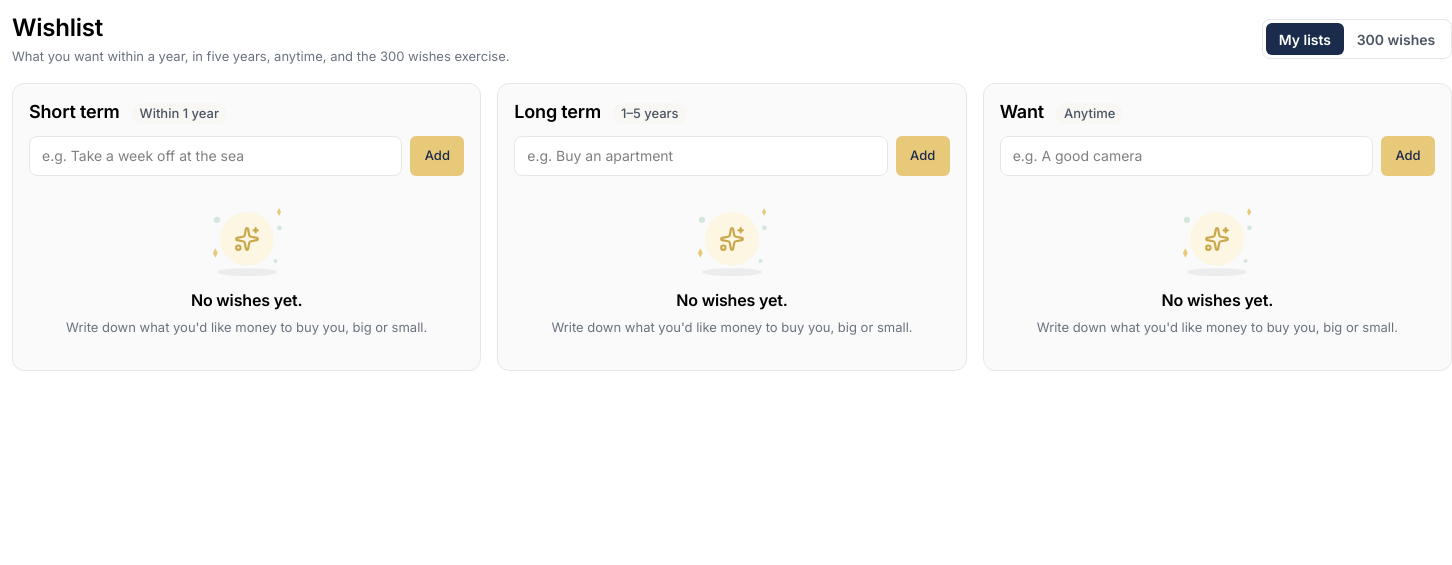
Test: WishlistPage › checks each exercise wish for repeats and lets the user decide
Expected: the element "Short term" is shown, [12,83,481,371]
Click the button "300 wishes" at {"x": 1396, "y": 39}, box [1344,23,1448,56]
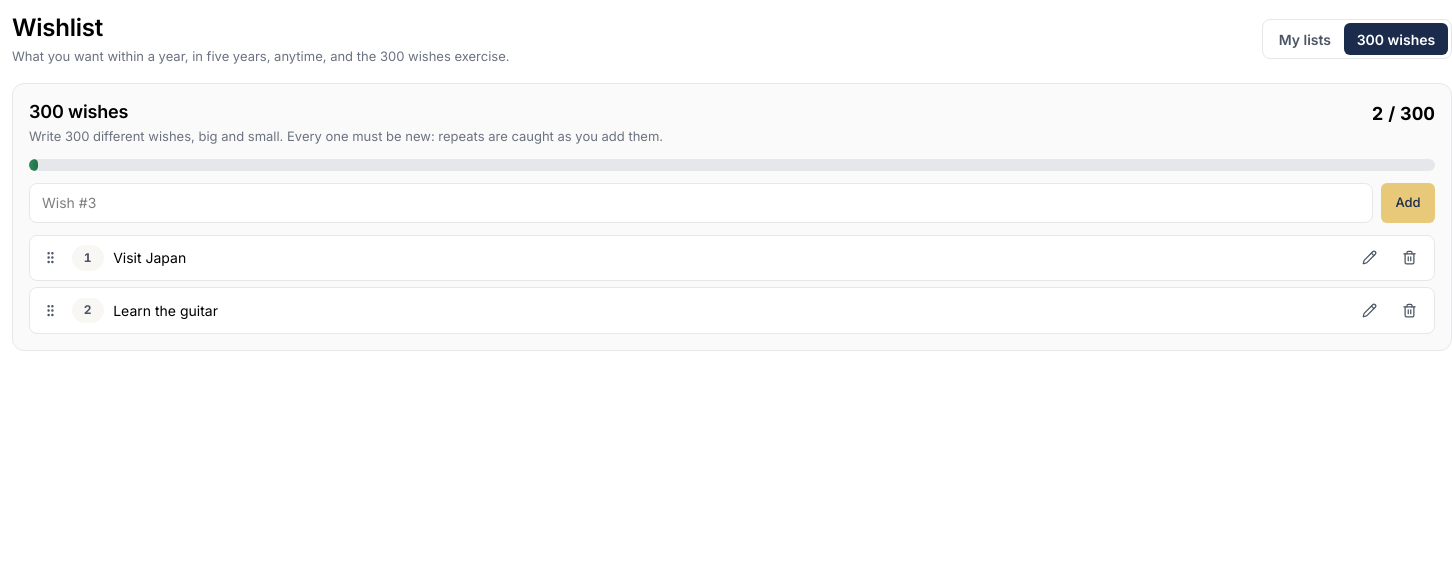
Expected: the element "300 wishes" shows "2 / 300", [12,83,1451,351]
Type "Become a guitar player" into the field named "New wish" at {"x": 701, "y": 203}, box [29,183,1373,223]
Click the button "Add" at {"x": 1408, "y": 203}, box [1381,183,1435,223]
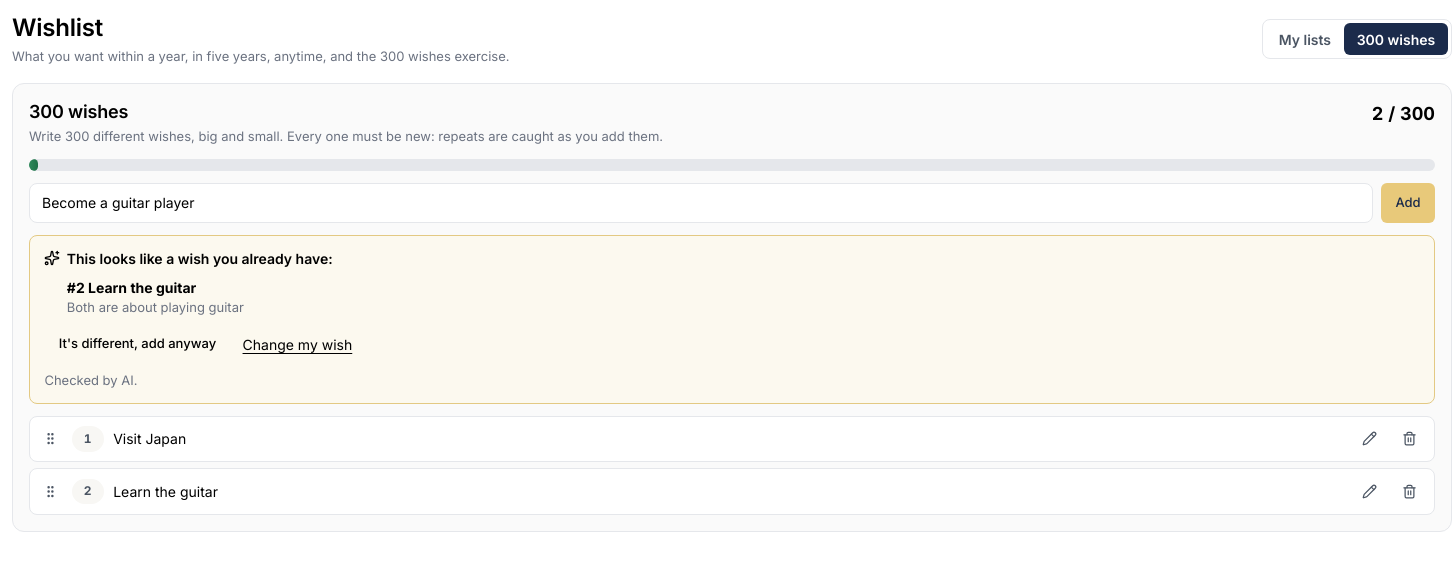
Expected: the message shows "This looks like a wish you already have", [67,250,333,267]
Expected: the message shows "#2 Learn the guitar", [29,235,1435,404]
Expected: the message shows "Both are about playing guitar", [67,299,244,315]
Click the button "It's different, add anyway" at {"x": 138, "y": 344}, box [44,325,231,363]
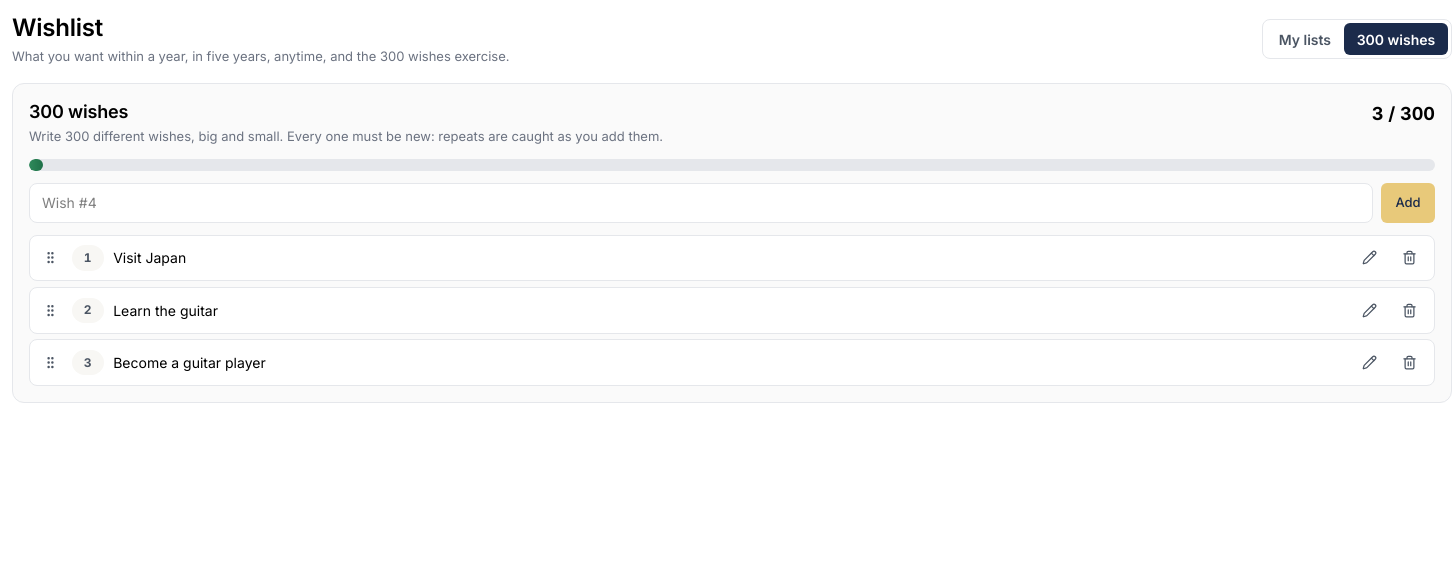
Expected: the text "Become a guitar player" is shown, [113,354,266,371]
Expected: the element "300 wishes" shows "3 / 300", [12,83,1451,403]
# An exact repeat cannot be added.
Type "visit japan" into the field named "New wish" at {"x": 701, "y": 203}, box [29,183,1373,223]
Click the button "Add" at {"x": 1408, "y": 203}, box [1381,183,1435,223]
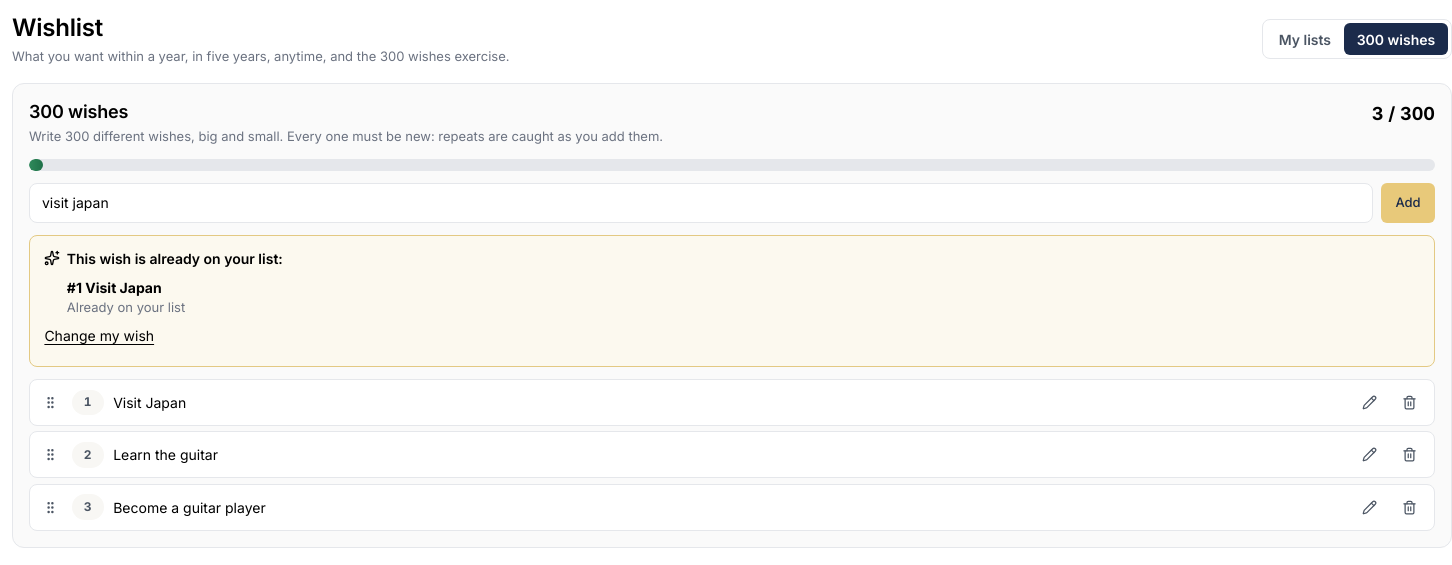
Expected: the button "It's different, add anyway" is not shown
Expected: the message shows "This wish is already on your list", [67,250,283,267]
# A new wish goes straight in.
Replace the text in the field named "New wish" with "Swim with dolphins" at {"x": 701, "y": 203}, box [29,183,1373,223]
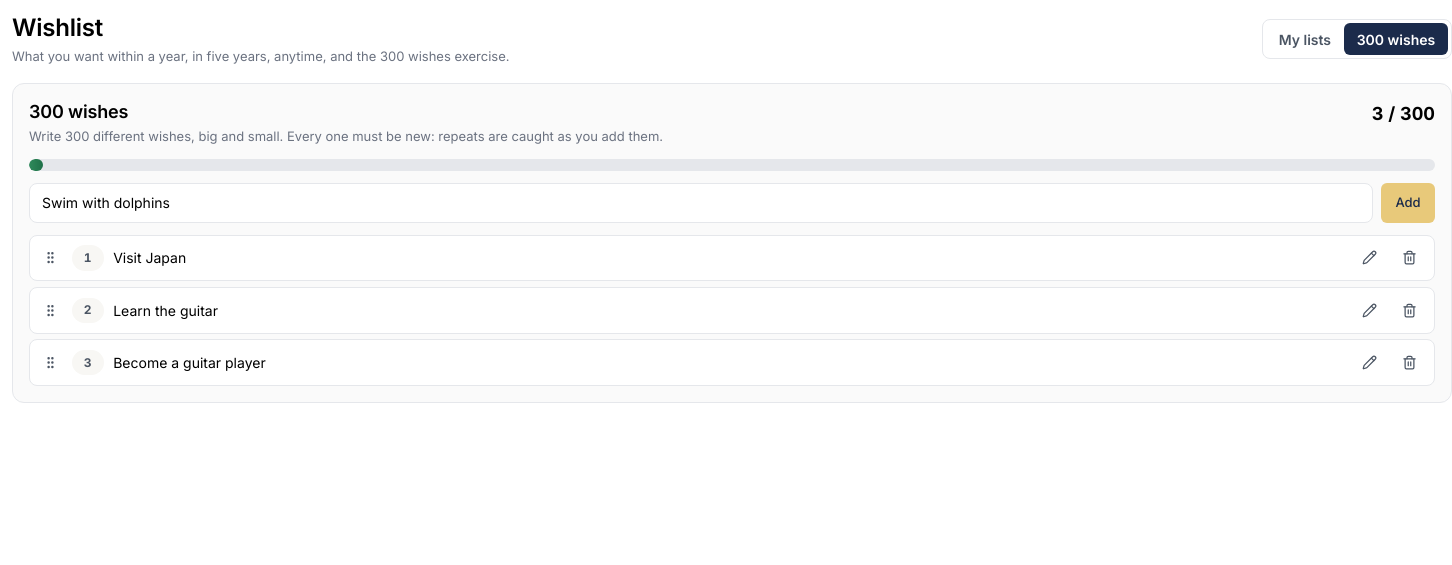
Click the button "Add" at {"x": 1408, "y": 203}, box [1381,183,1435,223]
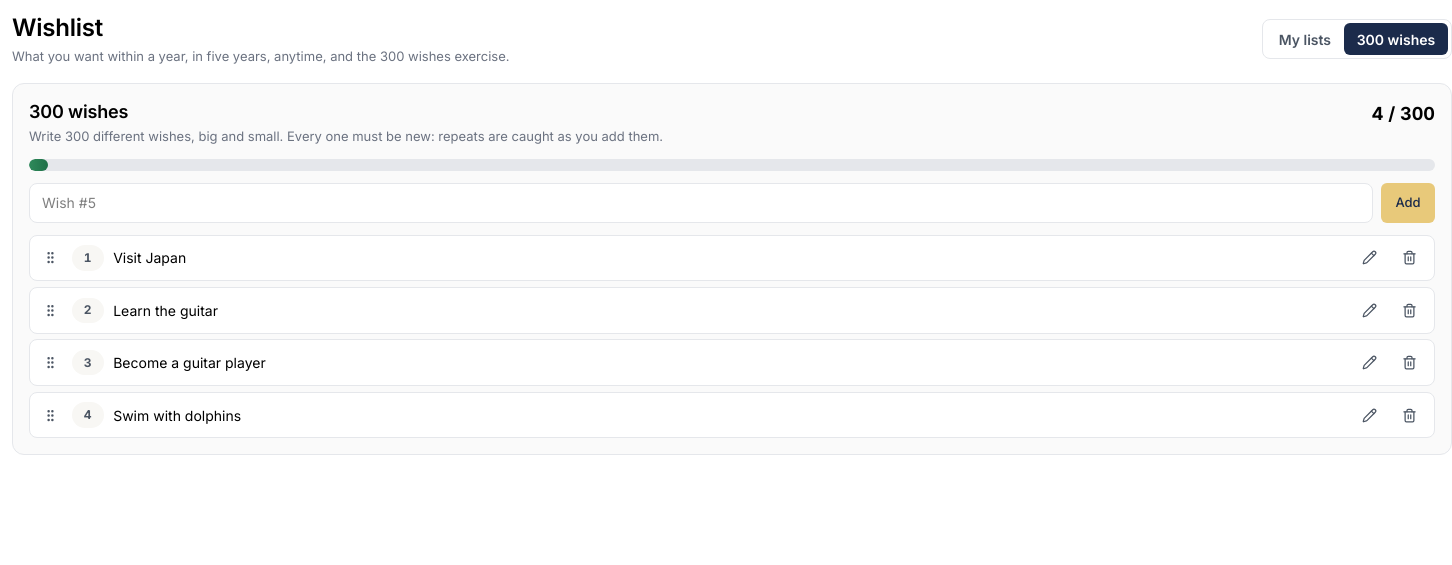
Expected: the text "Swim with dolphins" is shown, [113,406,241,424]
Expected: the field named "New wish" is empty, [29,183,1373,223]
